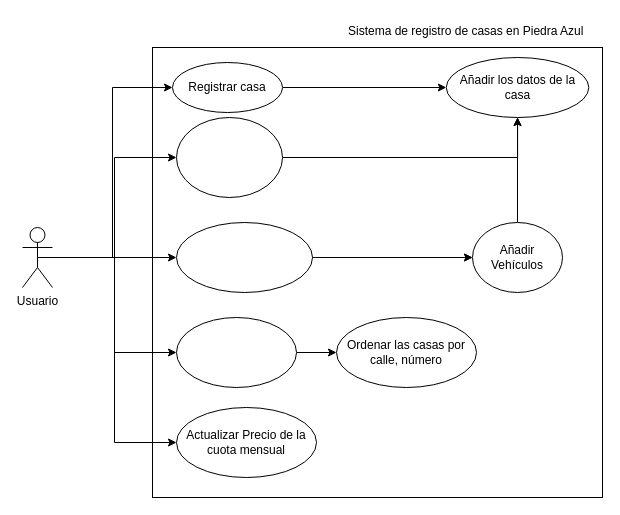
This 620x515 diagram has some shape labels left out. Here are the shapes that lost their labels. From the top down, the centre of each, then its label:
At [229,157]: "Registrar Casas que ya pagaron su cuota mensual".
At [244,257]: "Actualizar información de las casas".
At [236,352]: "Ver información de las casas".
